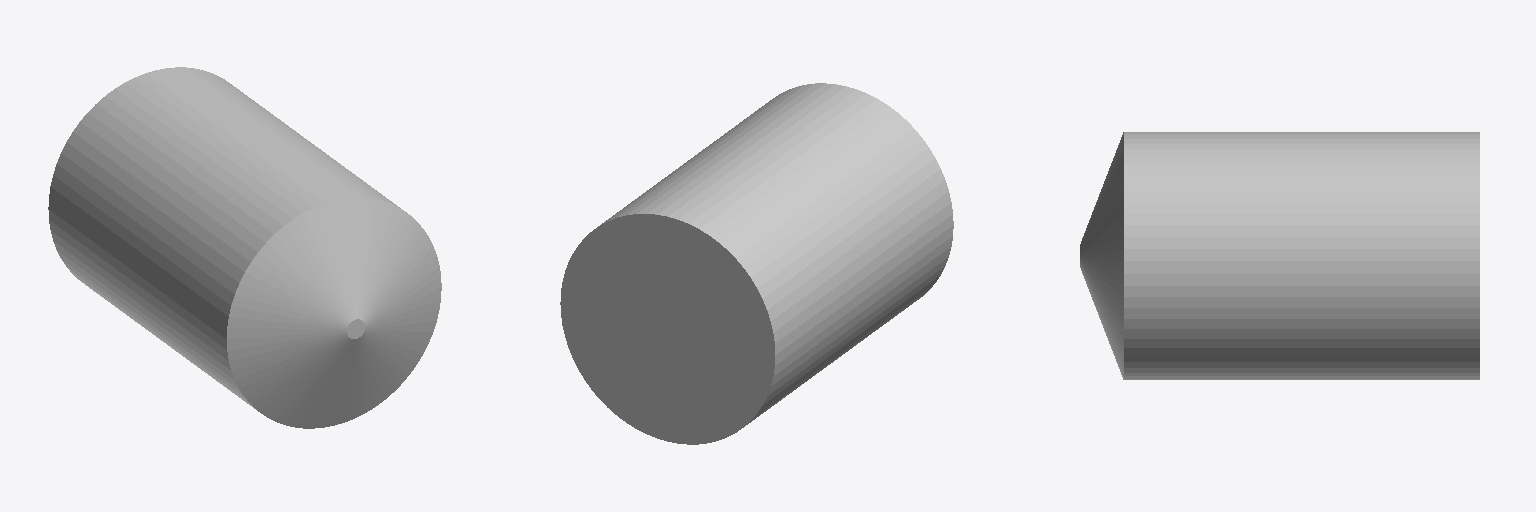
The model's file is Candle4b.obj.
3 renders of one model, left to right at view 1: azimuth 30°, elevation 25°; view 2: azimuth 150°, elevation 25°; view 3: azimuth 270°, elevation 25°, orthographic.
Visible parts, largest first — view 1: Candle4b_Cylinder.011; view 2: Candle4b_Cylinder.011; view 3: Candle4b_Cylinder.011.
Part boxes in pixels (x1,y1,x2,y2): Candle4b_Cylinder.011: (48, 67, 441, 428); Candle4b_Cylinder.011: (560, 83, 953, 444); Candle4b_Cylinder.011: (1080, 132, 1479, 379).
Bounding box in the file's own units: 0.0835 × 0.0835 × 0.1346.